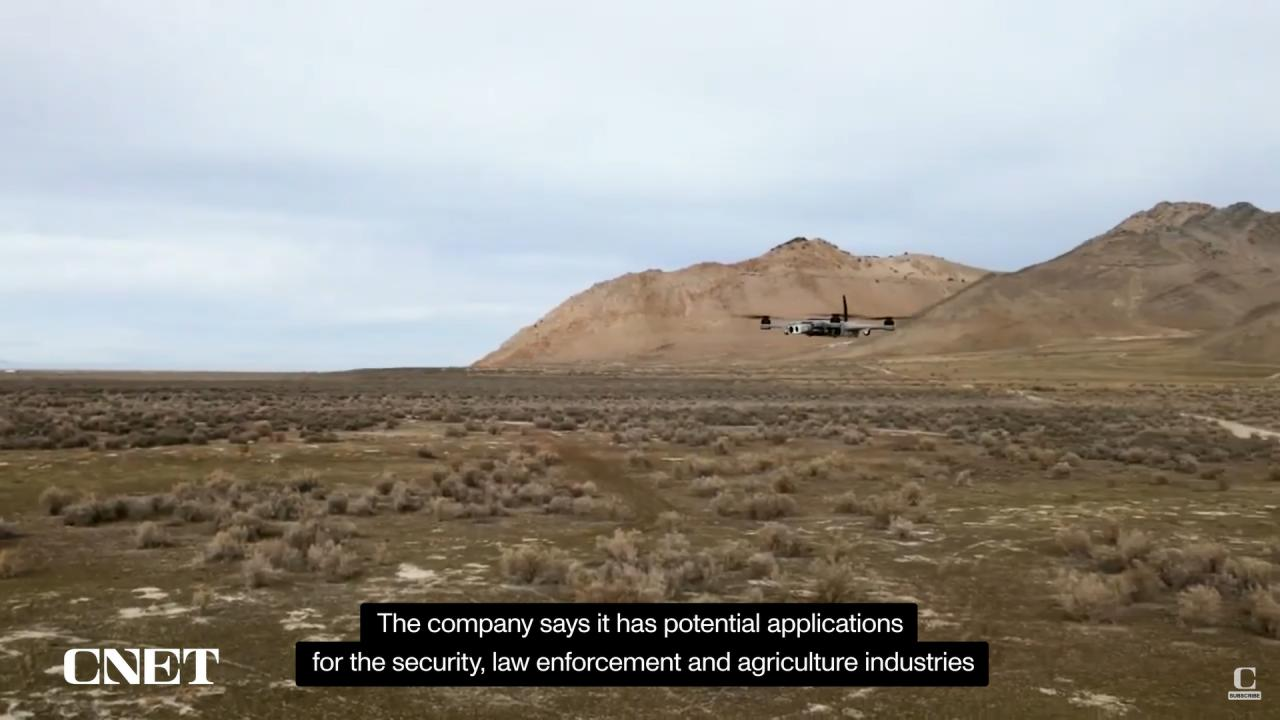Drone: (718, 286, 926, 354)
